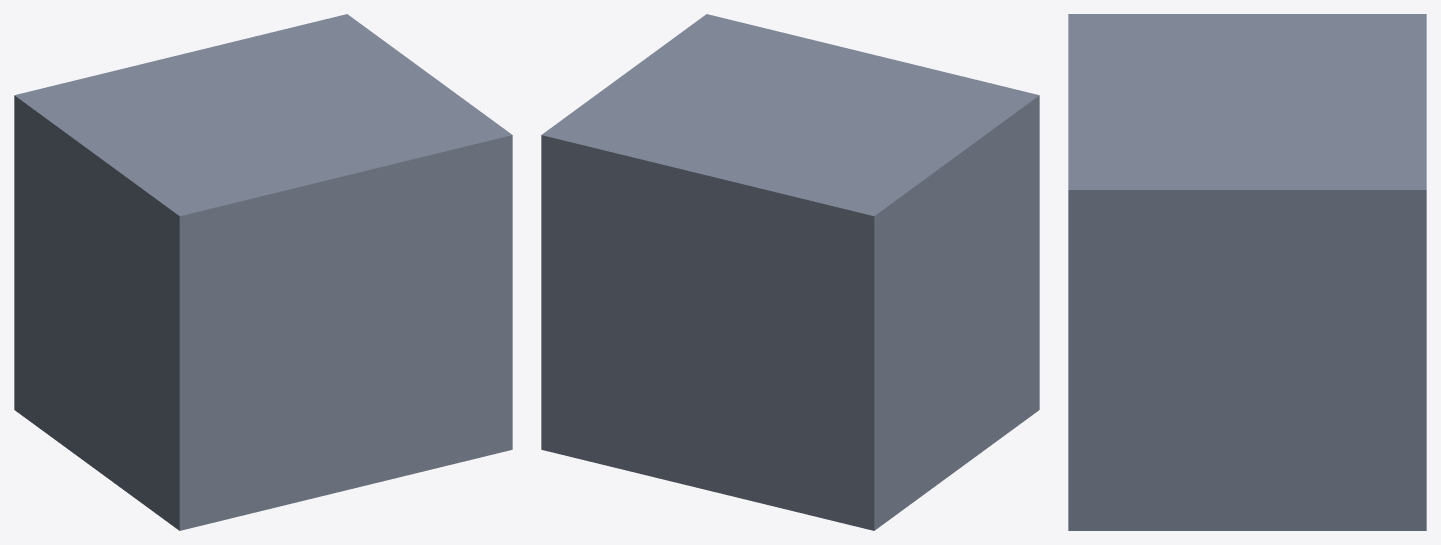
Rendered from obstacle-doble-bus.glb.
3 renders of one model, left to right at view 1: azimuth 30°, elevation 25°; view 2: azimuth 150°, elevation 25°; view 3: azimuth 270°, elevation 25°, orthographic. The views are drawn at different scales.
Visible parts, largest first — view 1: Obstacle_Doble; view 2: Obstacle_Doble; view 3: Obstacle_Doble.
Part boxes in pixels (bbox=[...]): Obstacle_Doble: bbox=[14, 14, 512, 530]; Obstacle_Doble: bbox=[541, 14, 1039, 530]; Obstacle_Doble: bbox=[1068, 14, 1426, 530].
Bounding box in the file's own units: 1.86 × 1.68 × 1.6.
